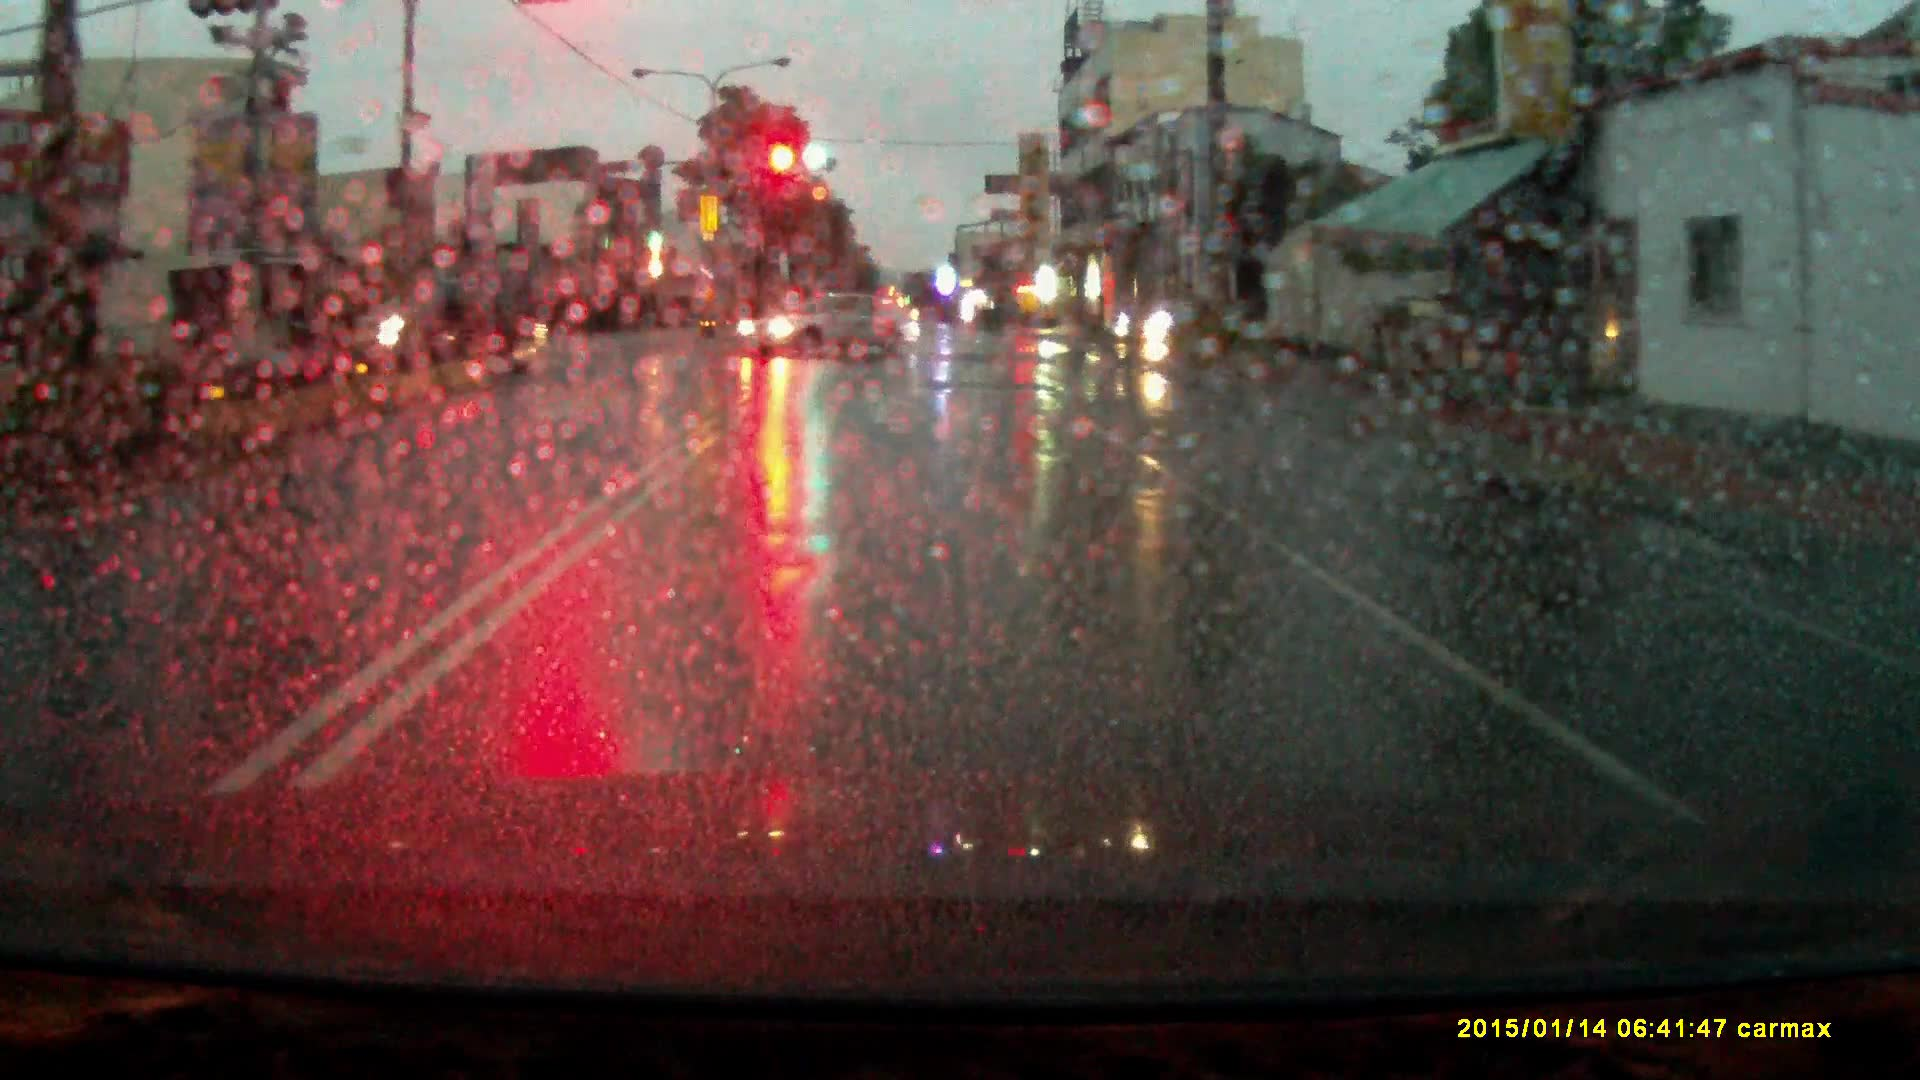vehicle: (316, 274, 553, 378), (733, 294, 920, 364), (1112, 294, 1257, 344)
